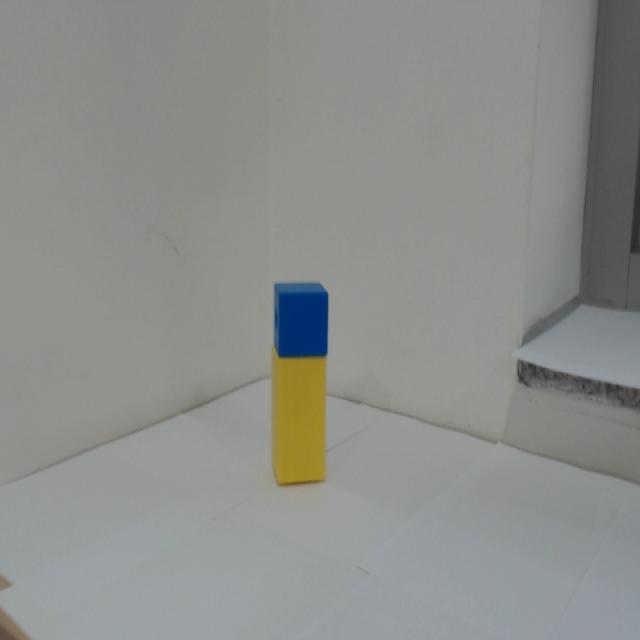cube: (273, 281, 329, 359)
